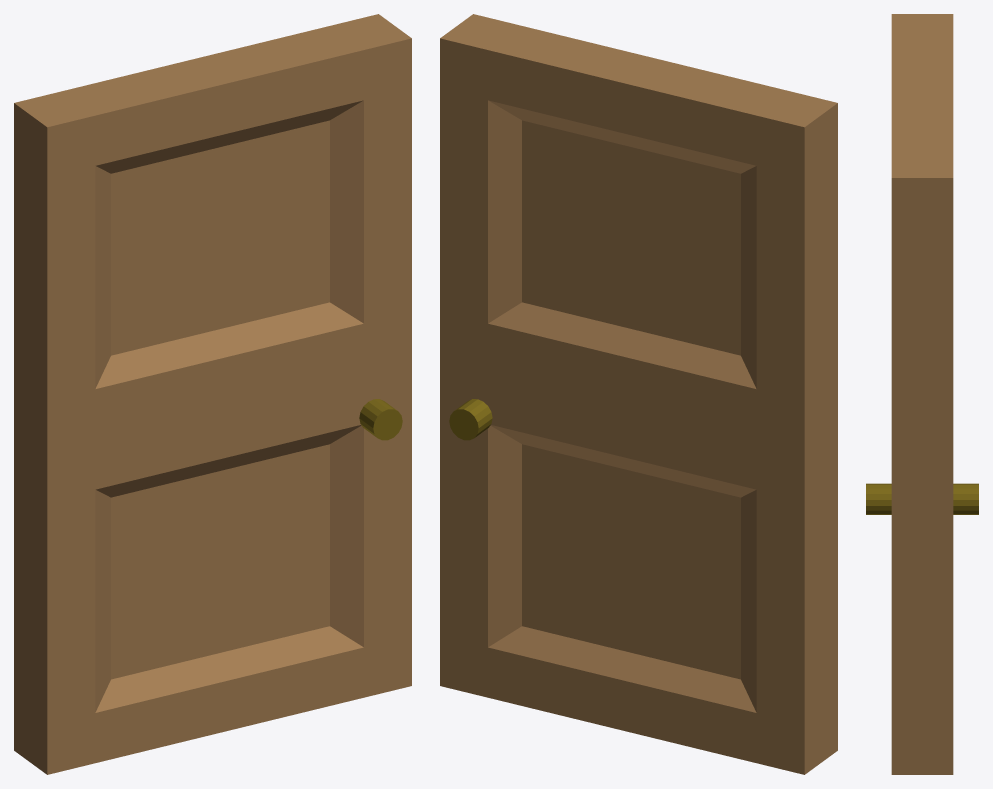
The model's file is door.glb.
3 renders of one model, left to right at view 1: azimuth 30°, elevation 25°; view 2: azimuth 150°, elevation 25°; view 3: azimuth 270°, elevation 25°, orthographic. The views are drawn at different scales.
Visible parts, largest first — view 1: door; view 2: door; view 3: door.
Boxes of the visible parts, box(x1,y1,x2,y2) form: door: box(14, 14, 411, 774); door: box(440, 14, 837, 774); door: box(866, 14, 978, 774).
Size of the model in its own units: 1.24 by 2.1 by 0.36.
